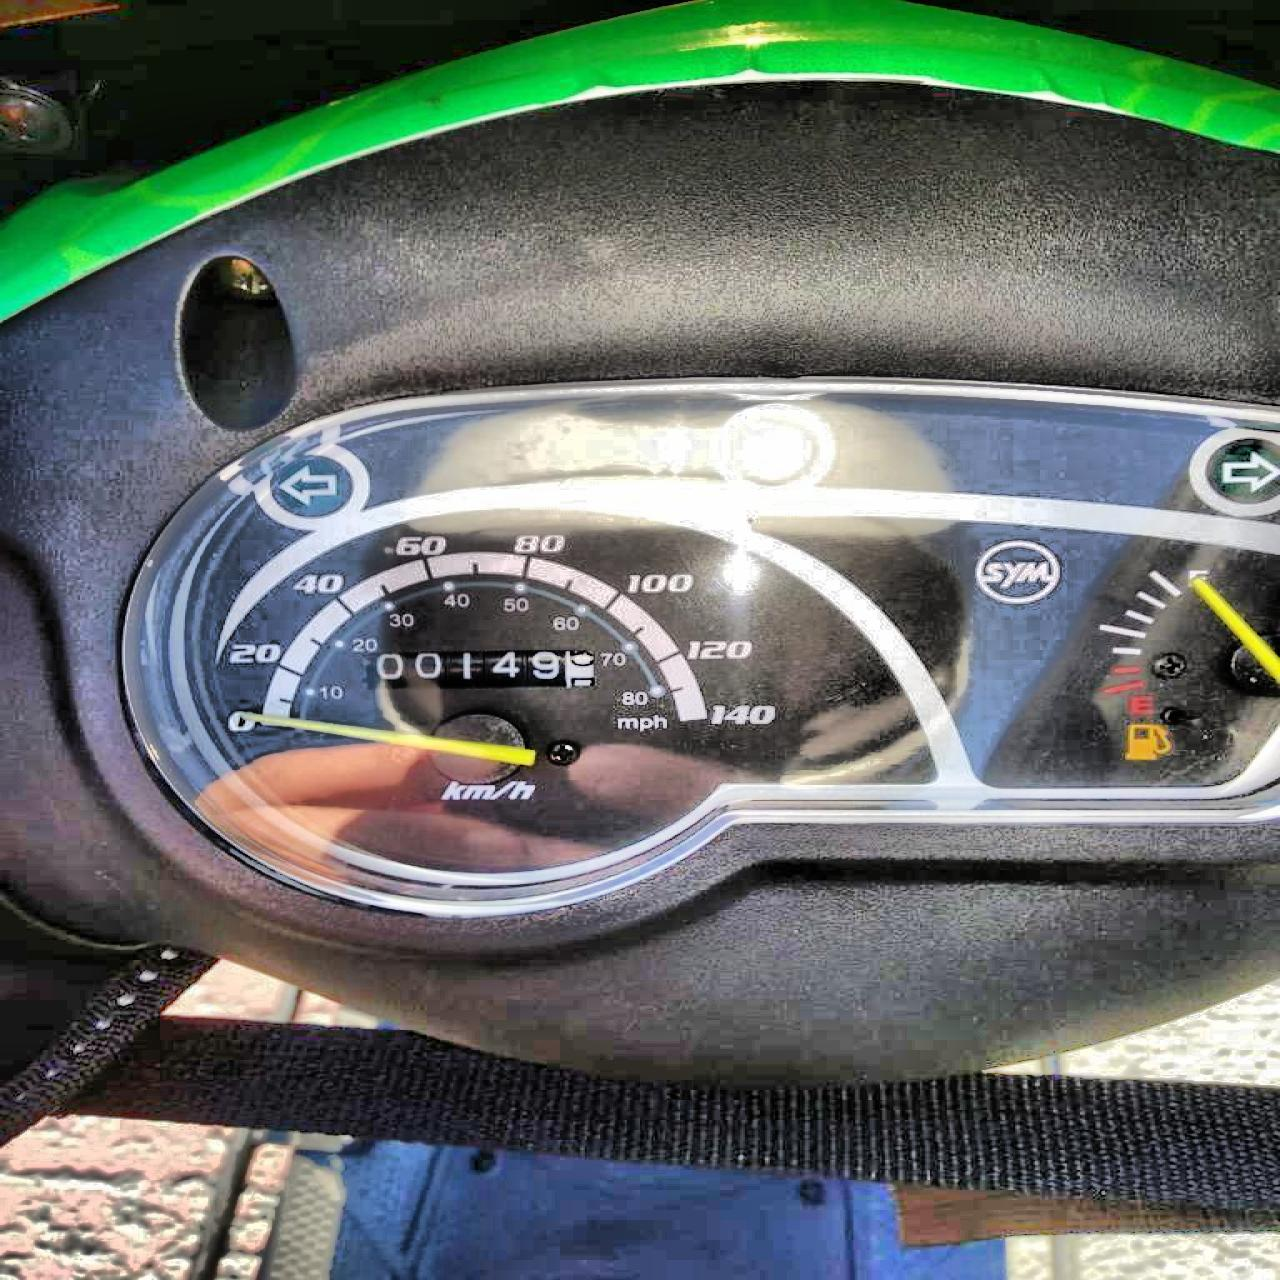0: (373, 651, 404, 681), (411, 651, 442, 679)
1: (458, 651, 474, 681)
4: (489, 651, 519, 678)
6: (567, 648, 595, 670)
9: (529, 648, 560, 681)
odometer: (356, 647, 597, 692)
